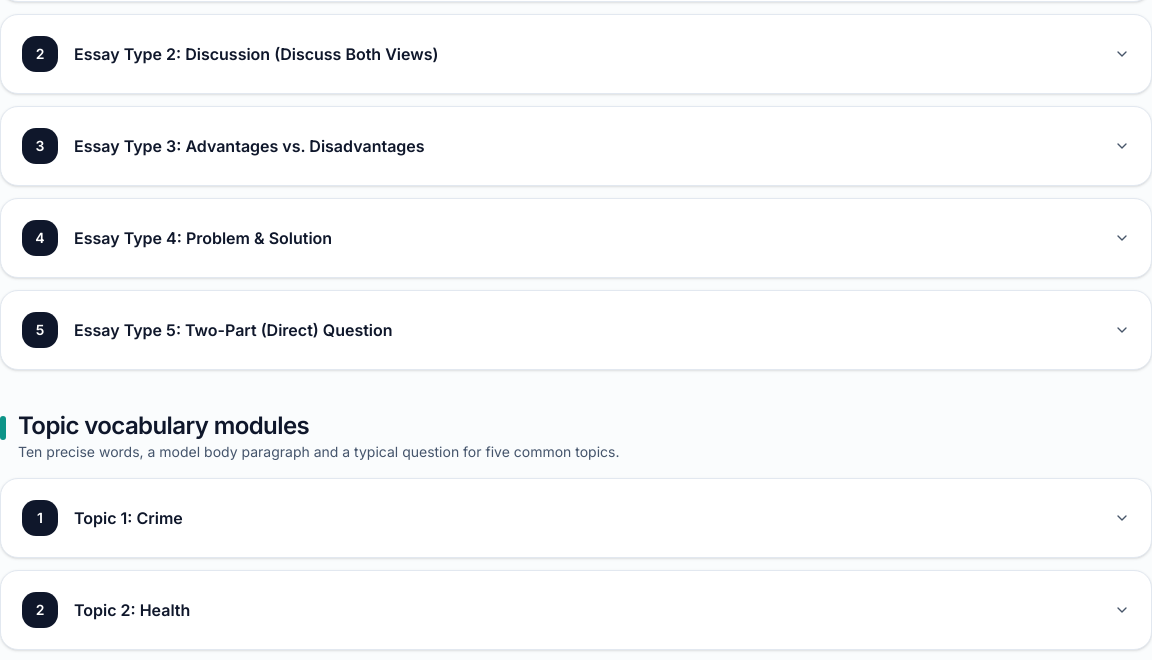
NotesBrowser writing guides › shows a guide for the other essay types too
The width and height of the screenshot is (1152, 660).
(page scrolled)
Click the button "5 Essay Type 5: Two-Part (Direct) Question" at (40, 330), box top-left (21, 291), bottom-right (1131, 369)
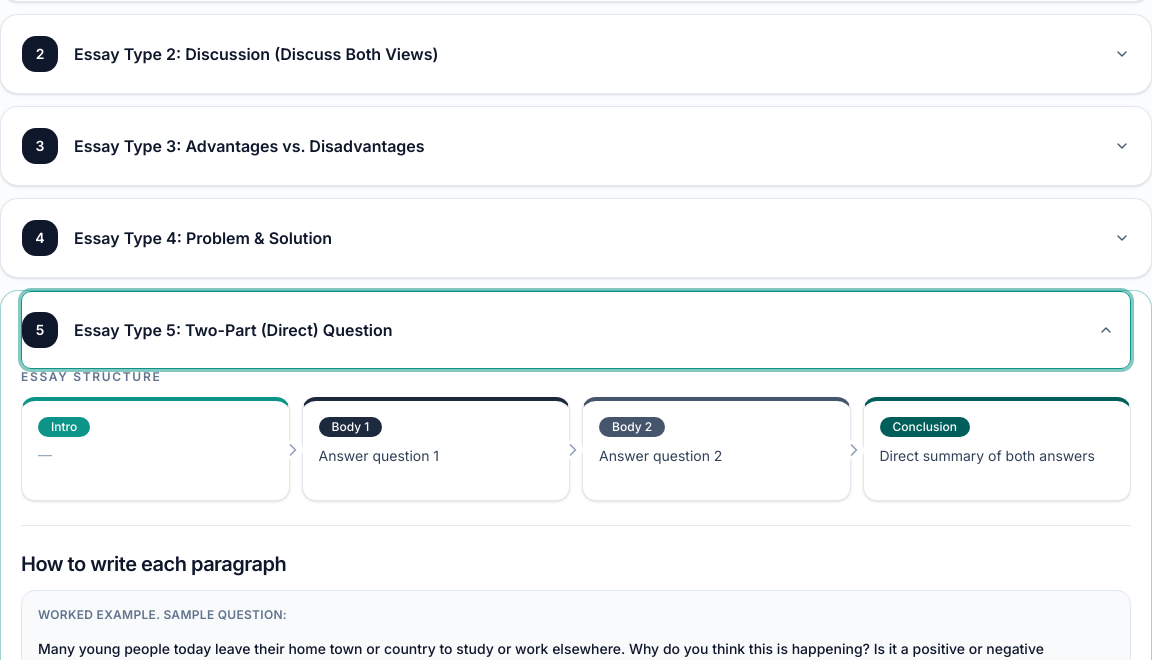
Expected: the heading "How to write each paragraph" is shown, top-left (21, 552), bottom-right (286, 576)
